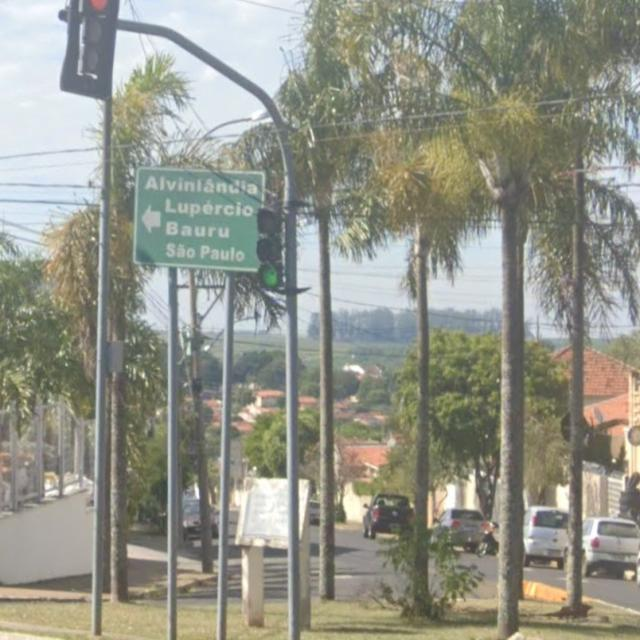indication: (114, 122, 273, 314)
